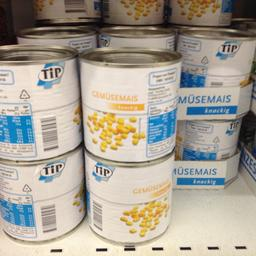corn: (76, 44, 180, 162), (0, 43, 82, 160), (81, 146, 174, 244), (0, 151, 82, 240)
